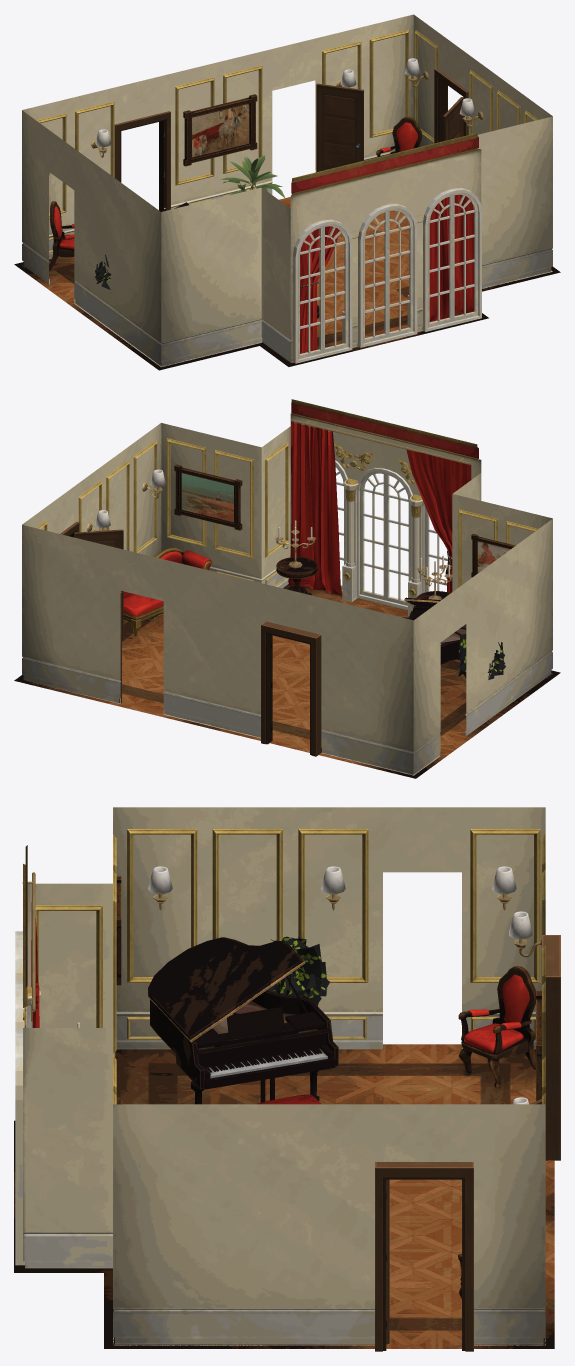
The model's file is ballroom.obj.
The picture shows the model from 3 angles, top to bottom: view 1: azimuth 30°, elevation 25°; view 2: azimuth 150°, elevation 25°; view 3: azimuth 270°, elevation 25°; orthographic projection. The views are drawn at different scales.
Parts seen in each view (by area): view 1: ballroom_walls_8158, ballroom_props_13901, ballroom_door_569, ballroom_door_274, ballroom_plants_1284, ballroom_props_960; view 2: ballroom_walls_8158, ballroom_props_13901, ballroom_door_274, ballroom_door_569, ballroom_plants_1284; view 3: ballroom_walls_8158, ballroom_props_13901, ballroom_door_274, ballroom_props_960, ballroom_plants_1284, ballroom_door_569.
Boxes of the visible parts, x1,y1,x2,y2 form: ballroom_walls_8158: (14,14,560,370); ballroom_props_13901: (49,71,483,353); ballroom_door_569: (316,83,463,172); ballroom_door_274: (114,69,468,211); ballroom_plants_1284: (95,155,285,289); ballroom_props_960: (95,58,475,146); ballroom_walls_8158: (14,399,560,778); ballroom_props_13901: (87,419,515,664); ballroom_door_274: (60,521,321,756); ballroom_door_569: (74,529,123,703); ballroom_plants_1284: (458,634,505,679); ballroom_walls_8158: (14,807,554,1348); ballroom_props_13901: (22,872,541,1299); ballroom_door_274: (375,935,560,1351); ballroom_props_960: (148,866,532,1104); ballroom_plants_1284: (267,936,329,1005); ballroom_door_569: (386,1099,541,1344).
Bounding box in the file's own units: 8.12 × 3.56 × 6.07.
